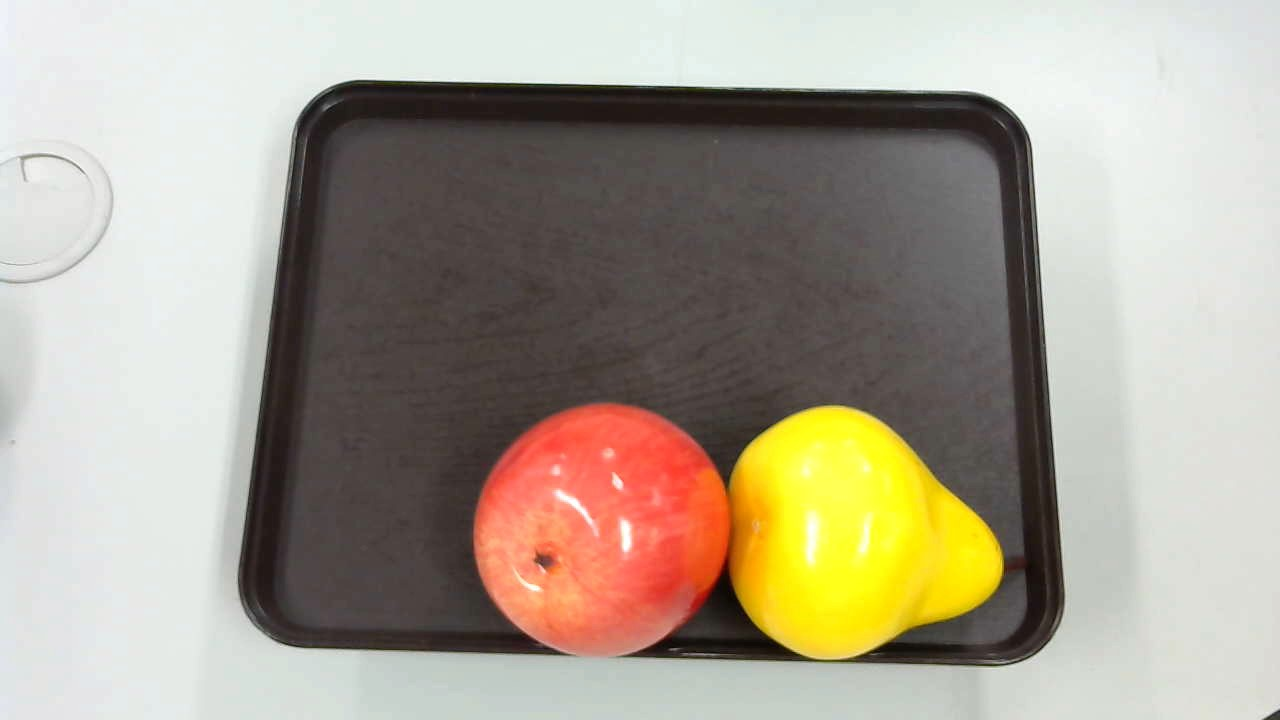red apple: (475, 400, 730, 661)
yellow pear: (728, 402, 1024, 663)
